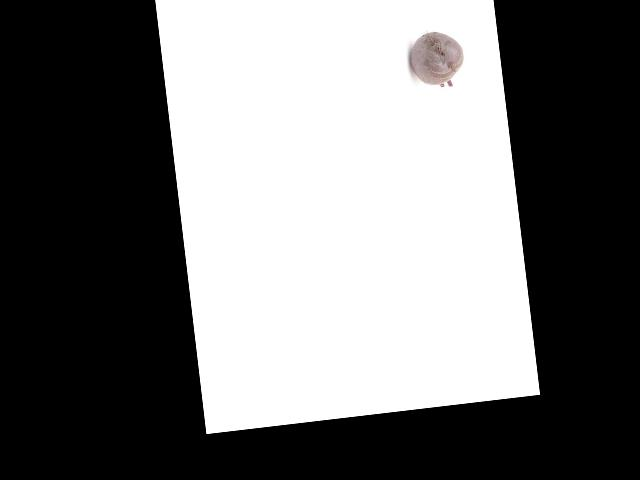beet: (406, 28, 467, 90)
